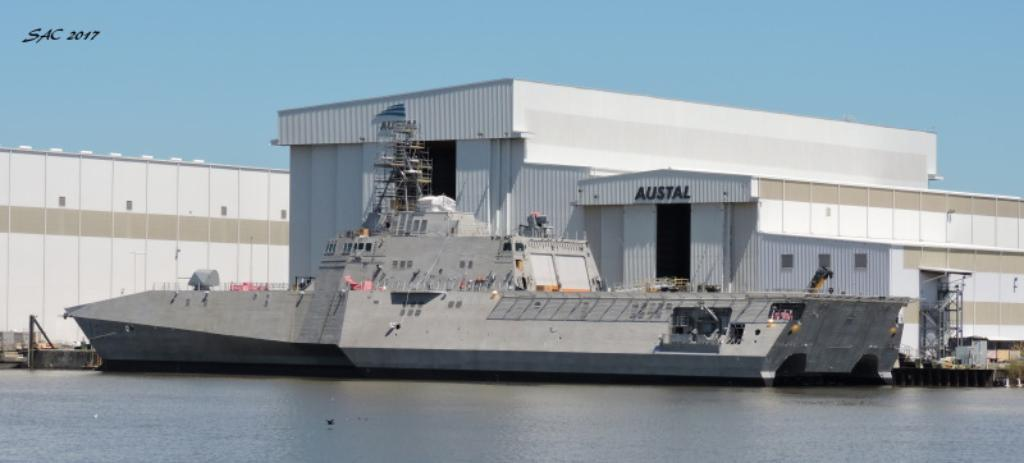Warship: (62, 116, 922, 386)
